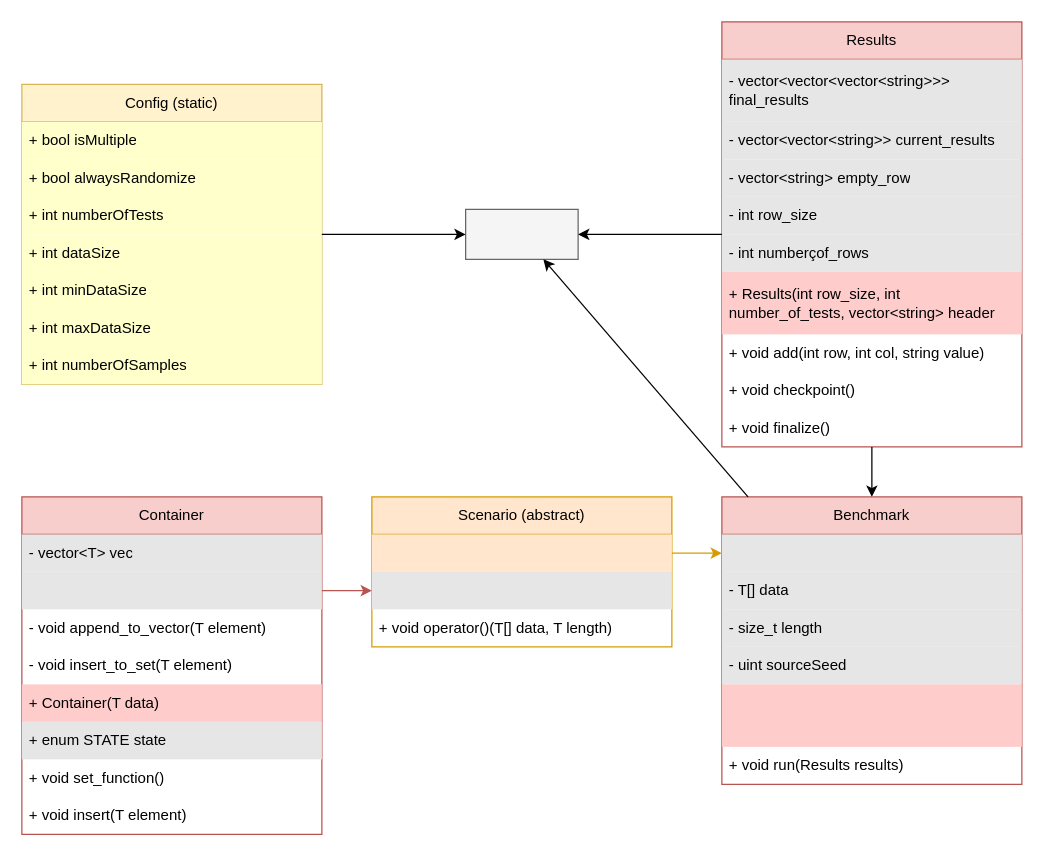
Some shapes in this 1044 by 856 pixel diagram are drawn without their labels. The centre of each missing label's shape, as x and y in pixels:
+ Benchmark(Scenario<T> scenario, T[] data, size_t length): the point at 871,715
+ Container<T> container: the point at 521,590
+ Scenario(Container<T> container): the point at 521,552
- Scenario<T> scenario: the point at 871,552
- unordered_set<T> set: the point at 171,590
Main: the point at 521,233
